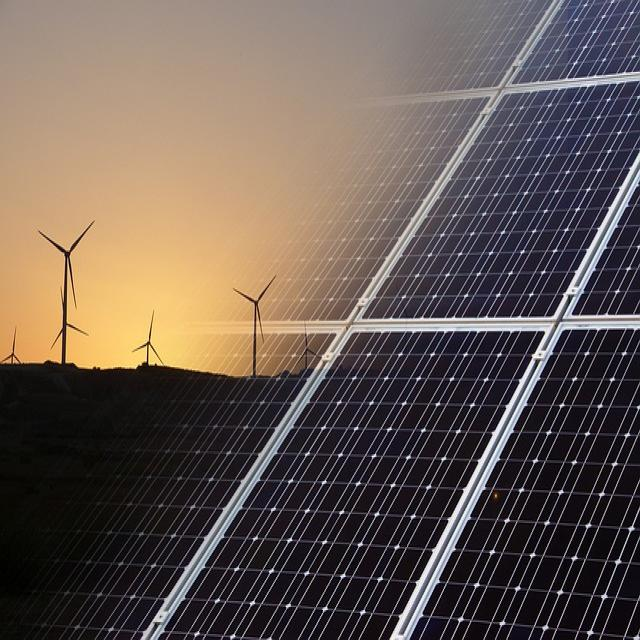clean-solar-panel: (1, 2, 640, 637)
